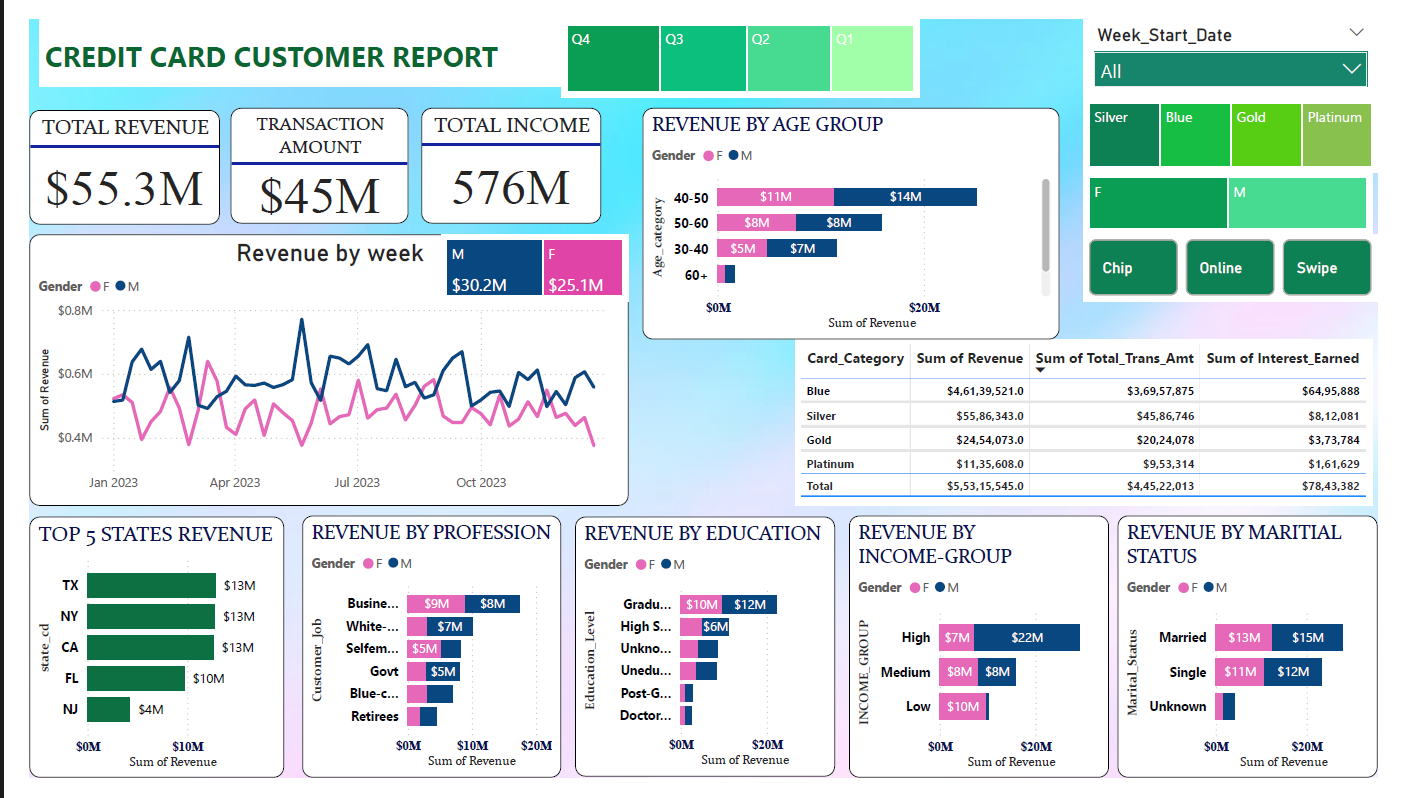

What the dashboard file says about the page in this screenshot:
{"tool":"powerbi","page":{"name":"Page 4","canvas":[1280,720],"ordinal":3},"visuals":[{"type":"textbox","box":[9.6,0,506.3,64.5],"z":0},{"type":"barChart","title":"REVENUE BY INCOME-GROUP","fields":{"Y":["Sum(Credit_Card.Revenue)"],"Category":["Customer.INCOME_GROUP"],"Series":["Customer.Gender"]},"box":[778.2,470.5,247.3,249.7],"z":1},{"type":"tableEx","fields":{"Values":["Credit_Card.Card_Category","Sum(Credit_Card.Revenue)","Sum(Credit_Card.Total_Trans_Amt)","Sum(Credit_Card.Interest_Earned)"]},"box":[727.5,304,547.7,158],"z":2},{"type":"card","title":"TOTAL REVENUE","fields":{"Values":["Sum(Credit_Card.Revenue)"]},"box":[0,85.7,181,109.8],"z":3},{"type":"card","title":"TOTAL INCOME","fields":{"Values":["Sum(Customer.Income)"]},"box":[371.6,84.5,171.3,109.8],"z":4},{"type":"card","title":" TRANSACTION AMOUNT","fields":{"Values":["Sum(Credit_Card.Total_Trans_Amt)"]},"box":[190.6,84.5,168.9,109.8],"z":5},{"type":"slicer","fields":{"Values":["Credit_Card.Week_Start_Date"]},"box":[1015.2,0,264.8,64.5],"z":6},{"type":"treemap","title":"FILTER ON CLIENT","fields":{"Group":["Credit_Card.Qtr"],"Values":["Avg(Customer.Client_Num)"]},"box":[505.5,0,339,73.6],"z":7},{"type":"treemap","title":"FILTER ON GENDER","fields":{"Group":["Customer.Gender"],"Values":["Avg(Customer.Client_Num)"]},"box":[1049.6,155.6,214.7,59.1],"z":8},{"type":"treemap","title":"FILTER ON CLIENT","fields":{"Group":["Credit_Card.Card_Category"],"Values":["Avg(Customer.Client_Num)"]},"box":[1001.4,74.1,278.6,71.4],"z":9},{"type":"advancedSlicerVisual","title":"CHIP","fields":{"Values":["Credit_Card.Use Chip"]},"box":[978.4,214.7,301.6,63.9],"z":10},{"type":"lineChart","title":"Revenue by week","fields":{"Y":["Sum(Credit_Card.Revenue)"],"Series":["Customer.Gender"],"Category":["Credit_Card.Week_Start_Date.Variation.Date Hierarchy.Year","Credit_Card.Week_Start_Date.Variation.Date Hierarchy.Month","Credit_Card.Week_Start_Date.Variation.Date Hierarchy.Day"]},"box":[0,203.9,569.4,258.2],"z":11},{"type":"treemap","fields":{"Group":["Customer.Gender"],"Values":["Sum(Credit_Card.Revenue)"]},"box":[390.9,203.9,178.6,63.9],"z":12},{"type":"barChart","title":"REVENUE BY AGE GROUP","fields":{"Y":["Sum(Credit_Card.Revenue)"],"Category":["Customer.Age_category"],"Series":["Customer.Gender"]},"box":[581.5,84.5,396.9,219.6],"z":13},{"type":"barChart","title":"REVENUE BY PROFESSION","fields":{"Y":["Sum(Credit_Card.Revenue)"],"Category":["Customer.Customer_Job"],"Series":["Customer.Gender"]},"box":[259.4,470.5,246.1,249.7],"z":14},{"type":"barChart","title":"REVENUE BY EDUCATION","fields":{"Y":["Sum(Credit_Card.Revenue)"],"Category":["Customer.Education_Level"],"Series":["Customer.Gender"]},"box":[517.6,471.7,247.3,247.3],"z":15},{"type":"barChart","title":"TOP 5 STATES REVENUE","fields":{"Y":["Sum(Credit_Card.Revenue)"],"Category":["Customer.state_cd"]},"box":[0,471.7,242.5,248.5],"z":16},{"type":"barChart","title":"REVENUE BY MARITIAL STATUS","fields":{"Y":["Sum(Credit_Card.Revenue)"],"Category":["Customer.Marital_Status"],"Series":["Customer.Gender"]},"box":[1032.7,470.5,247.3,249.7],"z":17}]}

Visuals, with their boxes in screenshot pixels (x1, y1, x2, y2), scaled from the page's 1280x720 canvas onto the 1402x798 screenshot:
textbox: [11, 0, 565, 71]
"REVENUE BY INCOME-GROUP" barChart: [852, 521, 1123, 797]
tableEx - Credit_Card.Card_Category x Sum(Credit_Card.Revenue): [797, 337, 1397, 512]
"TOTAL REVENUE" card: [0, 95, 198, 217]
"TOTAL INCOME" card: [407, 94, 595, 215]
" TRANSACTION AMOUNT" card: [209, 94, 394, 215]
slicer - Credit_Card.Week_Start_Date: [1112, 0, 1401, 71]
"FILTER ON CLIENT" treemap: [554, 0, 925, 82]
"FILTER ON GENDER" treemap: [1150, 172, 1385, 238]
"FILTER ON CLIENT" treemap: [1097, 82, 1401, 161]
"CHIP" advancedSlicerVisual: [1072, 238, 1401, 309]
"Revenue by week" lineChart: [0, 226, 624, 512]
treemap - Customer.Gender x Sum(Credit_Card.Revenue): [428, 226, 624, 297]
"REVENUE BY AGE GROUP" barChart: [637, 94, 1072, 337]
"REVENUE BY PROFESSION" barChart: [284, 521, 554, 797]
"REVENUE BY EDUCATION" barChart: [567, 523, 838, 797]
"TOP 5 STATES REVENUE" barChart: [0, 523, 266, 797]
"REVENUE BY MARITIAL STATUS" barChart: [1131, 521, 1401, 797]
